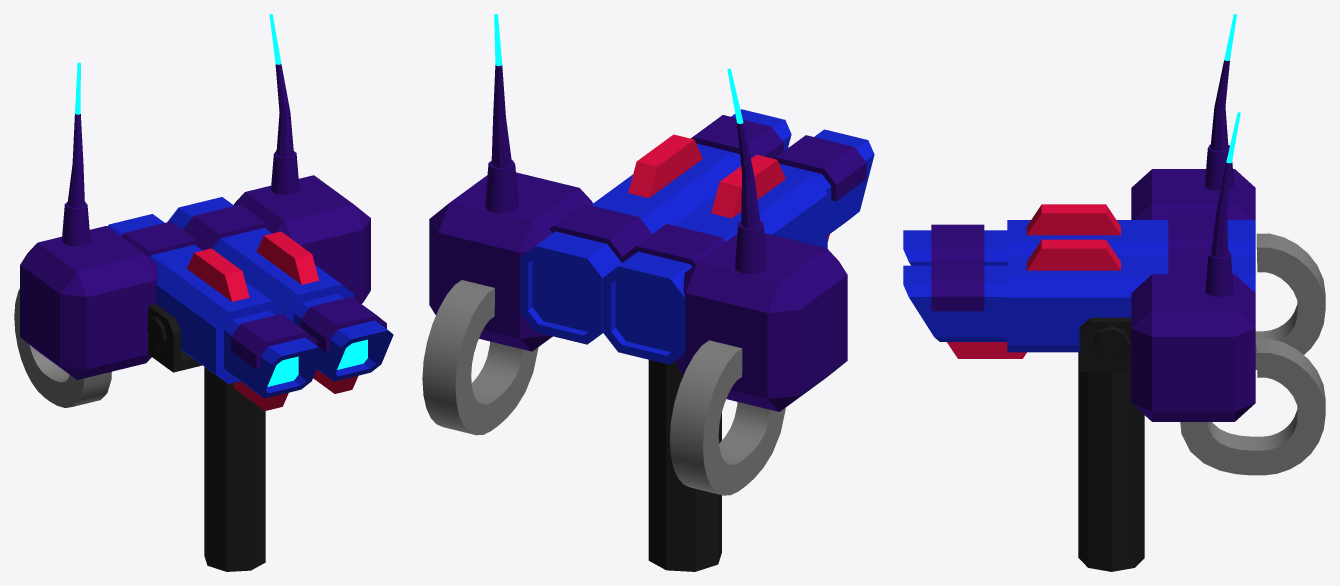
The model's file is Shooter2.fbx.
3 renders of one model, left to right at view 1: azimuth 30°, elevation 25°; view 2: azimuth 150°, elevation 25°; view 3: azimuth 270°, elevation 25°, orthographic. The views are drawn at different scales.
Parts seen in each view (by area): view 1: Shooter2; view 2: Shooter2; view 3: Shooter2.
Boxes of the visible parts, x1,y1,x2,y2 form: Shooter2: [14, 14, 393, 571]; Shooter2: [422, 14, 874, 571]; Shooter2: [903, 14, 1325, 571].
Size of the model in its own units: 90.16 by 132 by 102.
